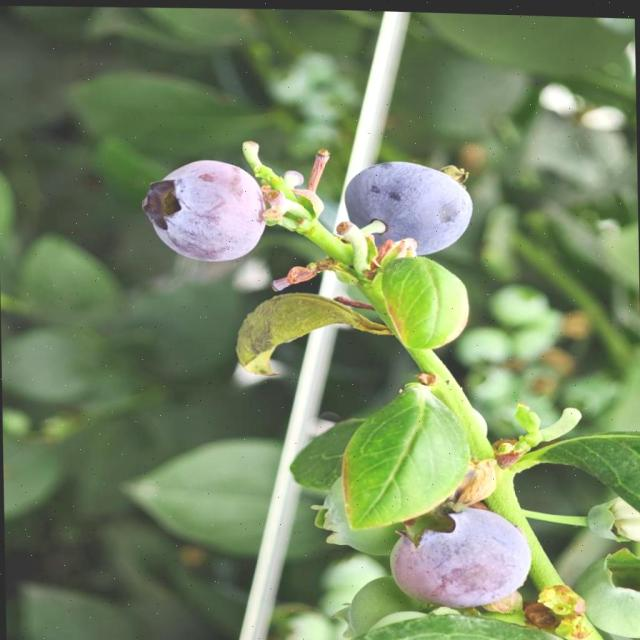RipeBlueBerry: (390, 500, 532, 605), (139, 156, 264, 260), (341, 156, 474, 251)
